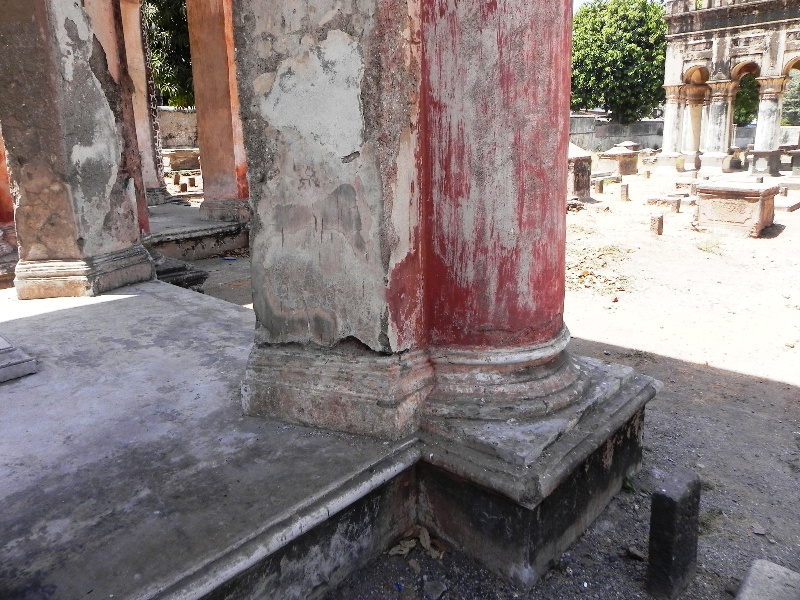Spalling: (77, 27, 142, 230), (255, 337, 417, 364), (334, 150, 372, 172)
